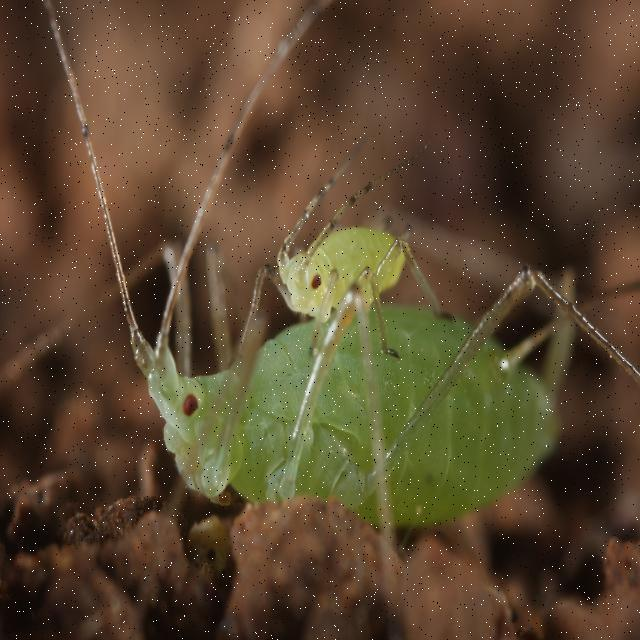Aphids: (49, 109, 608, 591), (260, 151, 427, 363)
